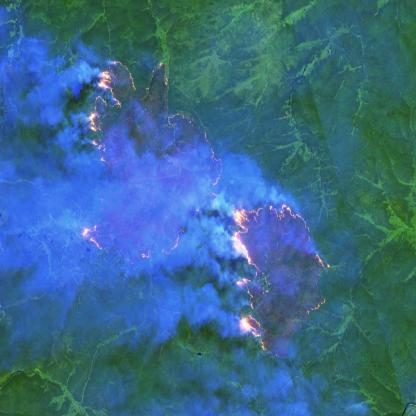fire: (226, 192, 333, 354), (86, 55, 138, 170), (81, 219, 111, 254)
